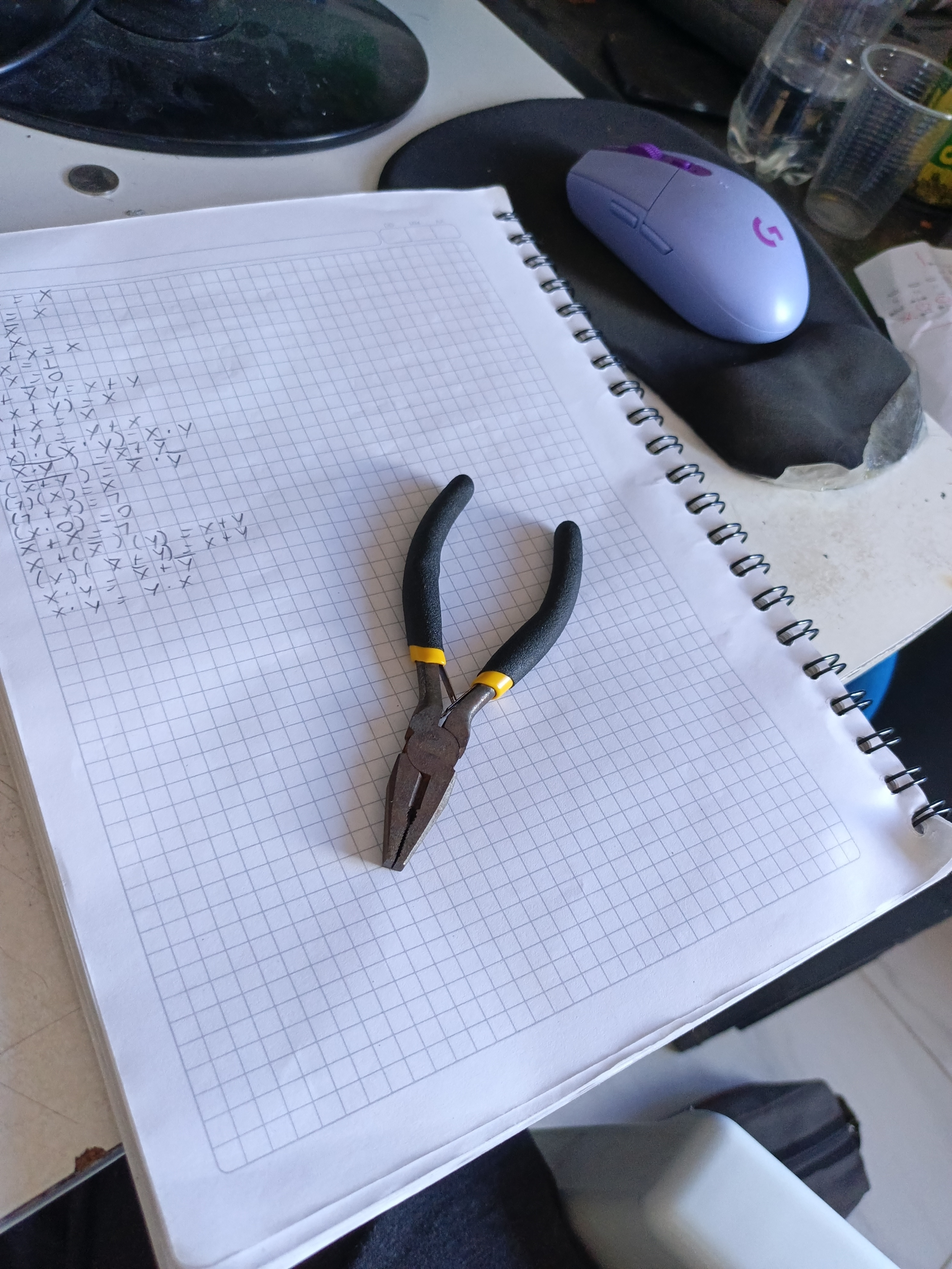Pinzas: (382, 474, 583, 870)
